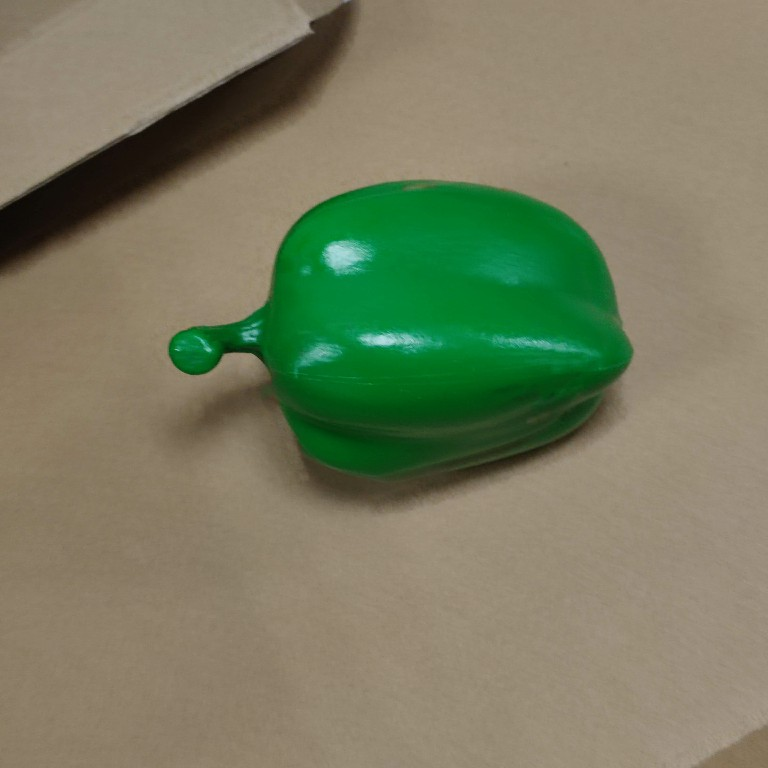fruit_pepper: (164, 172, 641, 489)
